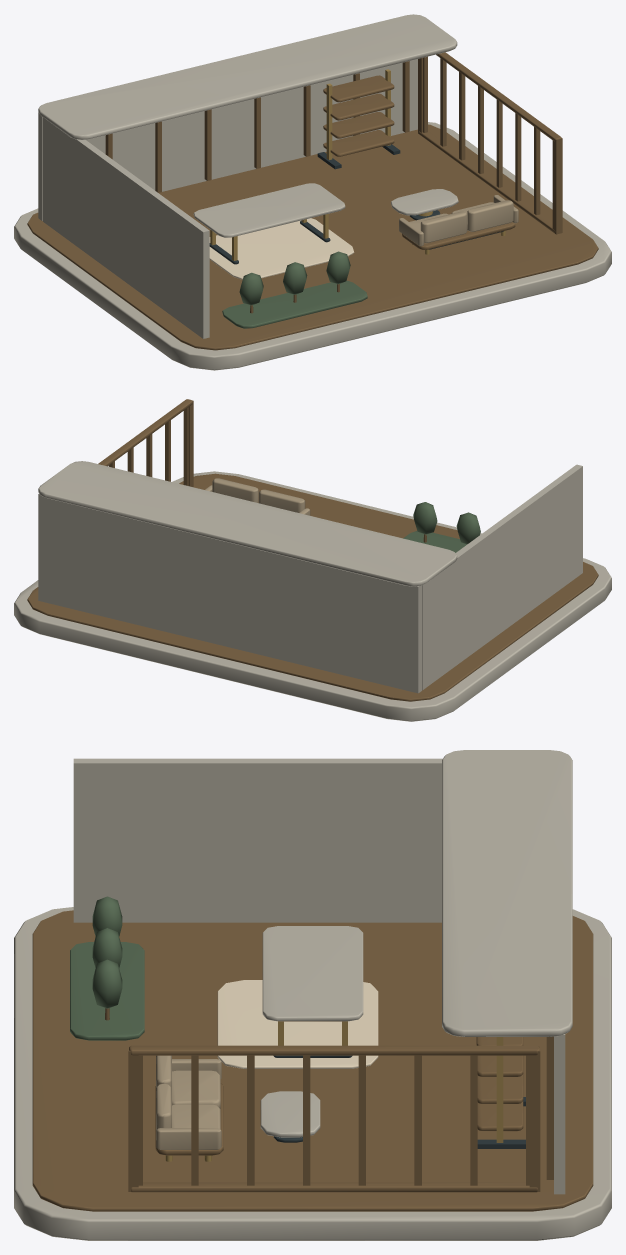
The picture shows the model from 3 angles, top to bottom: view 1: azimuth 30°, elevation 25°; view 2: azimuth 150°, elevation 25°; view 3: azimuth 270°, elevation 25°; orthographic projection. The views are drawn at different scales.
Visible parts, largest first — view 1: officina-architecture-limestone, officina-architecture-timber, officina-architecture-garden, officina-architecture-chalk, officina-architecture-woven-upholstery, officina-architecture-brushed-brass, officina-architecture-graphite; view 2: officina-architecture-limestone, officina-architecture-timber, officina-architecture-garden, officina-architecture-woven-upholstery; view 3: officina-architecture-limestone, officina-architecture-timber, officina-architecture-garden, officina-architecture-chalk, officina-architecture-woven-upholstery, officina-architecture-brushed-brass, officina-architecture-graphite.
Part boxes in pixels (x1=…): officina-architecture-limestone: x1=14, y1=14, x2=611, y2=370; officina-architecture-timber: x1=27, y1=52, x2=598, y2=350; officina-architecture-garden: x1=222, y1=251, x2=367, y2=328; officina-architecture-chalk: x1=209, y1=218, x2=354, y2=279; officina-architecture-woven-upholstery: x1=399, y1=195, x2=518, y2=246; officina-architecture-brushed-brass: x1=210, y1=69, x2=505, y2=260; officina-architecture-graphite: x1=209, y1=144, x2=503, y2=264; officina-architecture-limestone: x1=14, y1=461, x2=611, y2=721; officina-architecture-timber: x1=27, y1=399, x2=598, y2=701; officina-architecture-garden: x1=403, y1=502, x2=480, y2=552; officina-architecture-woven-upholstery: x1=205, y1=478, x2=310, y2=515; officina-architecture-limestone: x1=14, y1=750, x2=611, y2=1240; officina-architecture-timber: x1=32, y1=910, x2=593, y2=1211; officina-architecture-garden: x1=70, y1=896, x2=144, y2=1040; officina-architecture-chalk: x1=217, y1=980, x2=378, y2=1068; officina-architecture-woven-upholstery: x1=156, y1=1055, x2=221, y2=1149; officina-architecture-brushed-brass: x1=165, y1=1021, x2=503, y2=1161; officina-architecture-graphite: x1=273, y1=1055, x2=525, y2=1148.
Size of the model in its own units: 20 by 5.73 by 16.
